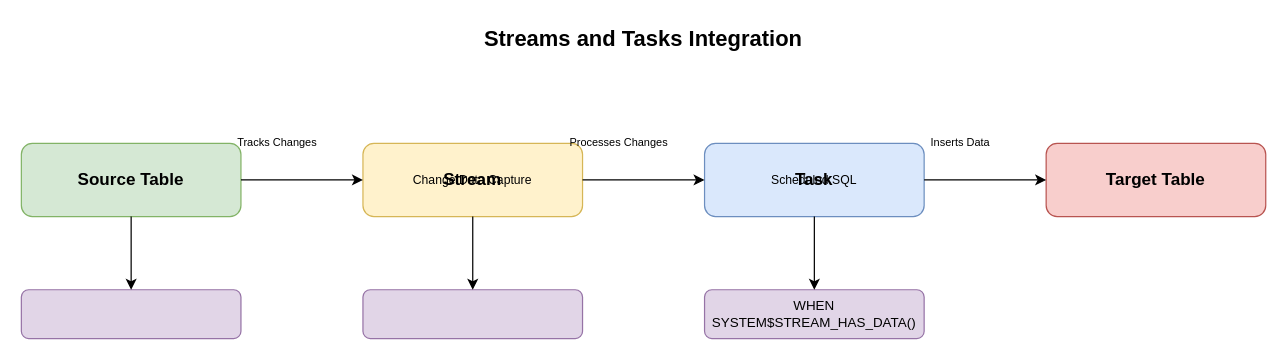
Image size: 1287x360. Some labels were removed from this diagram. Each missing label, with the centre of its shape:
INSERT, UPDATE, DELETE: point 130,314
METADATA$ACTION: point 472,314
